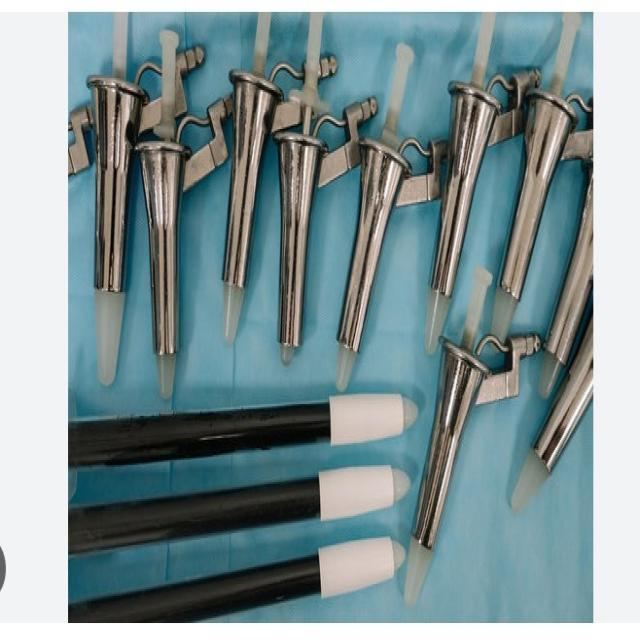Protoscope: (397, 263, 548, 616), (322, 36, 456, 388), (82, 19, 195, 412), (409, 24, 539, 352), (268, 21, 378, 369), (482, 16, 588, 347), (140, 29, 230, 417), (218, 17, 322, 350)
